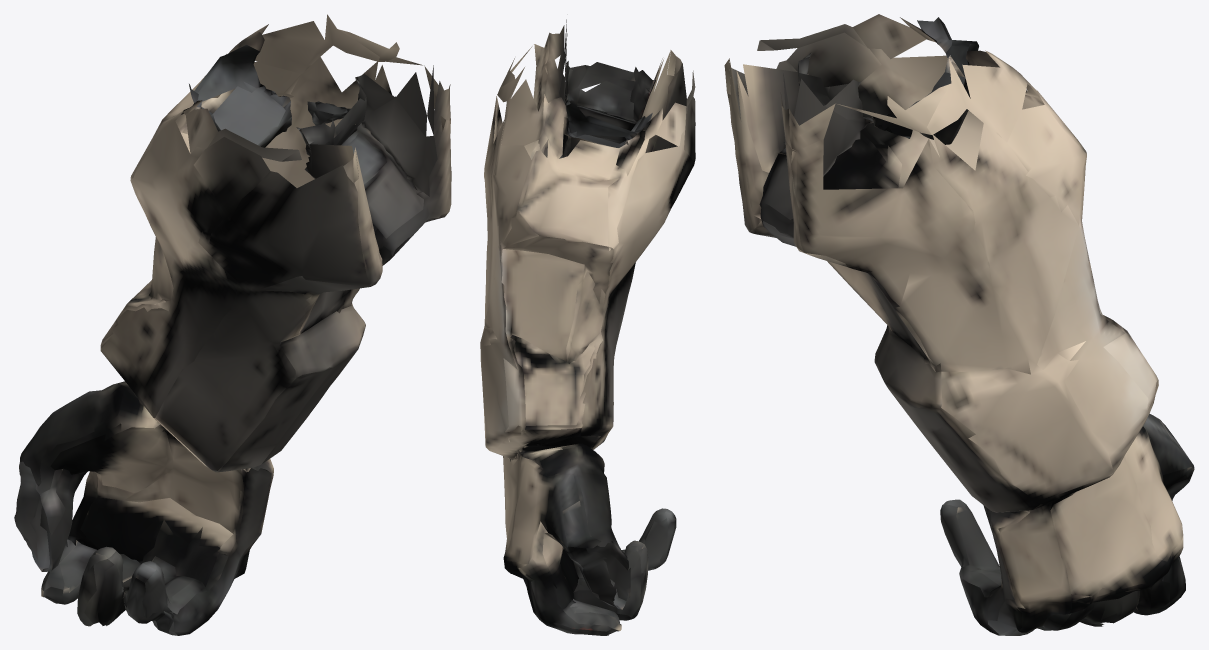
Rendered from wanzer_local_arm_right_001_lower.glb.
The picture shows the model from 3 angles, left to right: view 1: azimuth 30°, elevation 25°; view 2: azimuth 150°, elevation 25°; view 3: azimuth 270°, elevation 25°; orthographic projection. The views are drawn at different scales.
Parts seen in each view (by area): view 1: W_arm_right_lower.001; view 2: W_arm_right_lower.001; view 3: W_arm_right_lower.001.
Boxes of the visible parts, left/top/right/bottom form: W_arm_right_lower.001: left=14, top=14, right=451, bottom=635; W_arm_right_lower.001: left=480, top=19, right=695, bottom=635; W_arm_right_lower.001: left=724, top=14, right=1194, bottom=635.
Bounding box in the file's own units: 0.4296 × 0.9272 × 0.6233.
2 materials, 2 textured.
